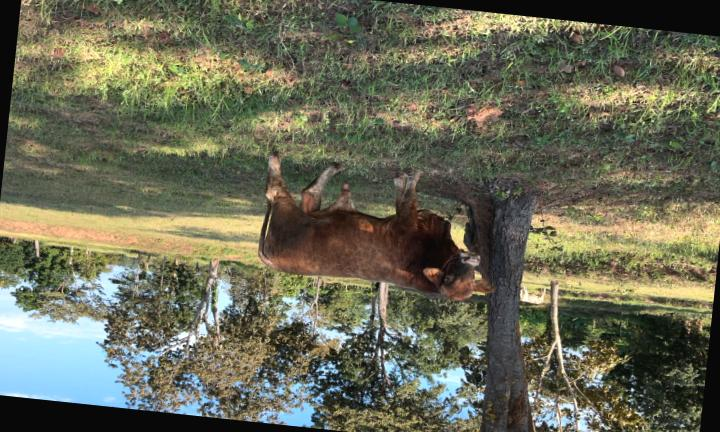Charolais: (258, 153, 495, 301)
